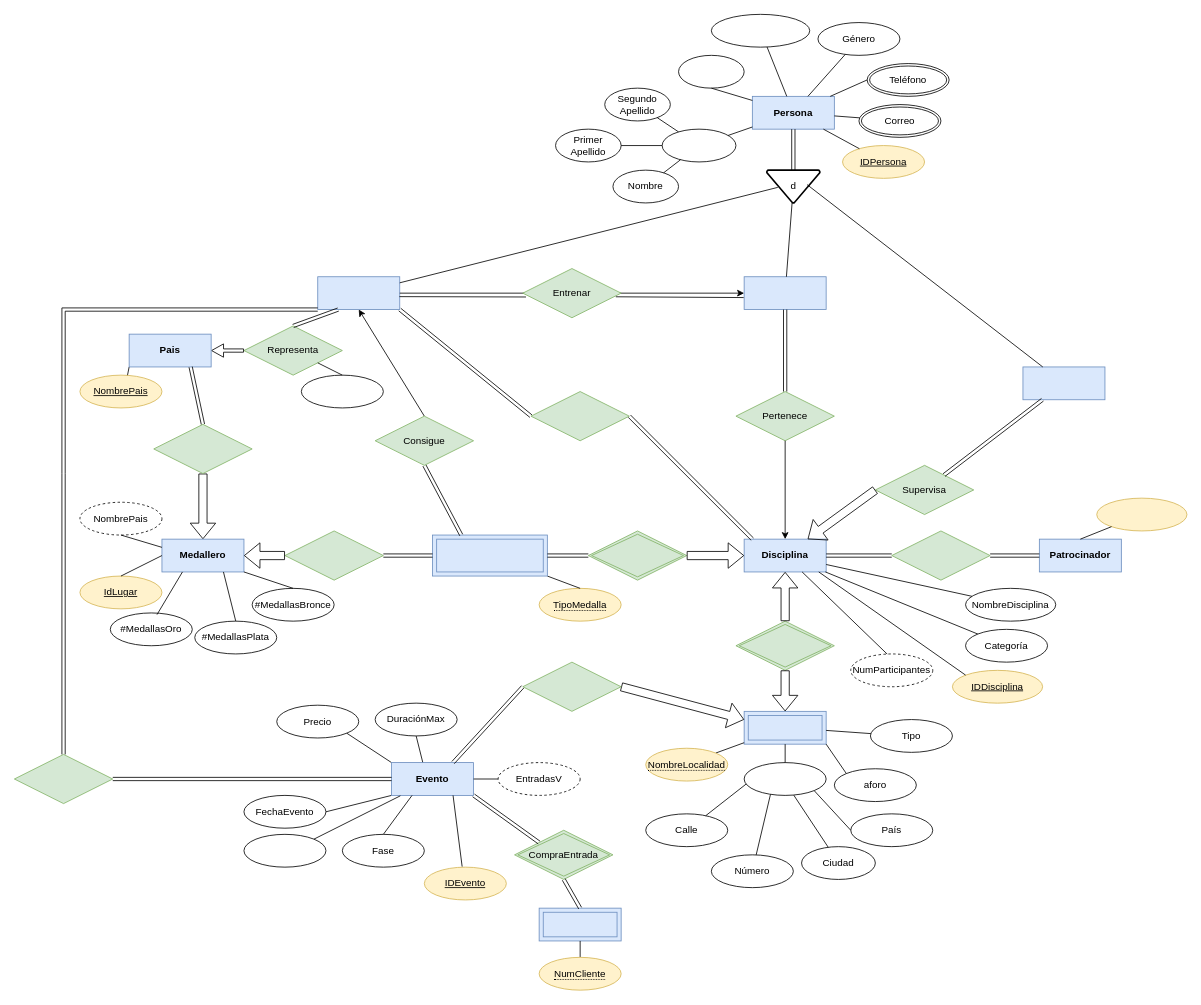
Some shapes in this 1201 by 1005 pixel diagram are drawn without their labels. The box of each missing label's shape, as (x1, y1, x2, y2) in pixels:
Atleta: (317, 276, 400, 310)
Año: (301, 374, 383, 408)
Cliente: (538, 907, 621, 941)
Concursa: (14, 754, 113, 804)
Contiene: (284, 530, 383, 580)
Dirección: (743, 762, 826, 795)
Entrenador: (743, 276, 826, 310)
Esta: (522, 661, 621, 711)
FechaNacimiento: (711, 14, 810, 47)
Hay: (153, 424, 252, 474)
Localidad: (743, 711, 826, 744)
Medalla: (432, 534, 547, 576)
Nacionalidad: (678, 55, 744, 88)
NombreComp: (661, 128, 736, 162)
NombrePatrocinador: (1096, 497, 1187, 531)
Participa: (530, 391, 629, 441)
Patrocina: (891, 530, 990, 580)
PrecioTotal: (243, 834, 326, 867)
Tiene: (588, 530, 687, 580)
Ubicar: (735, 620, 834, 670)
Árbitro: (1022, 366, 1105, 400)
